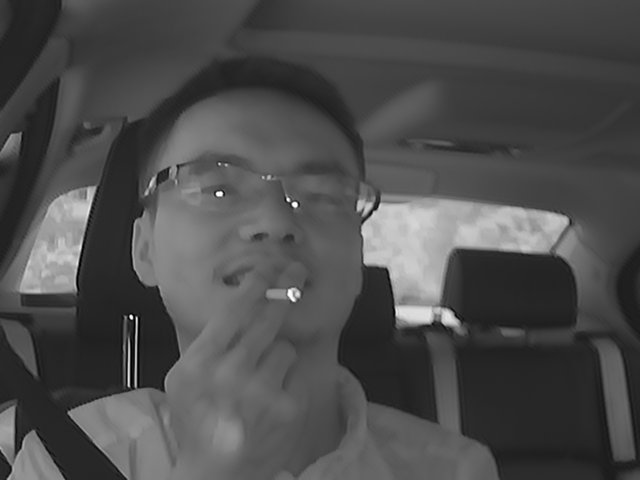hand: (167, 264, 314, 443)
